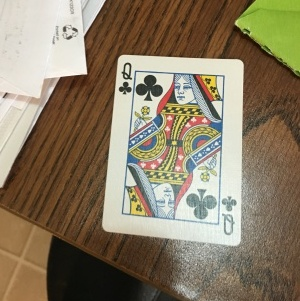card: (102, 54, 246, 247)
